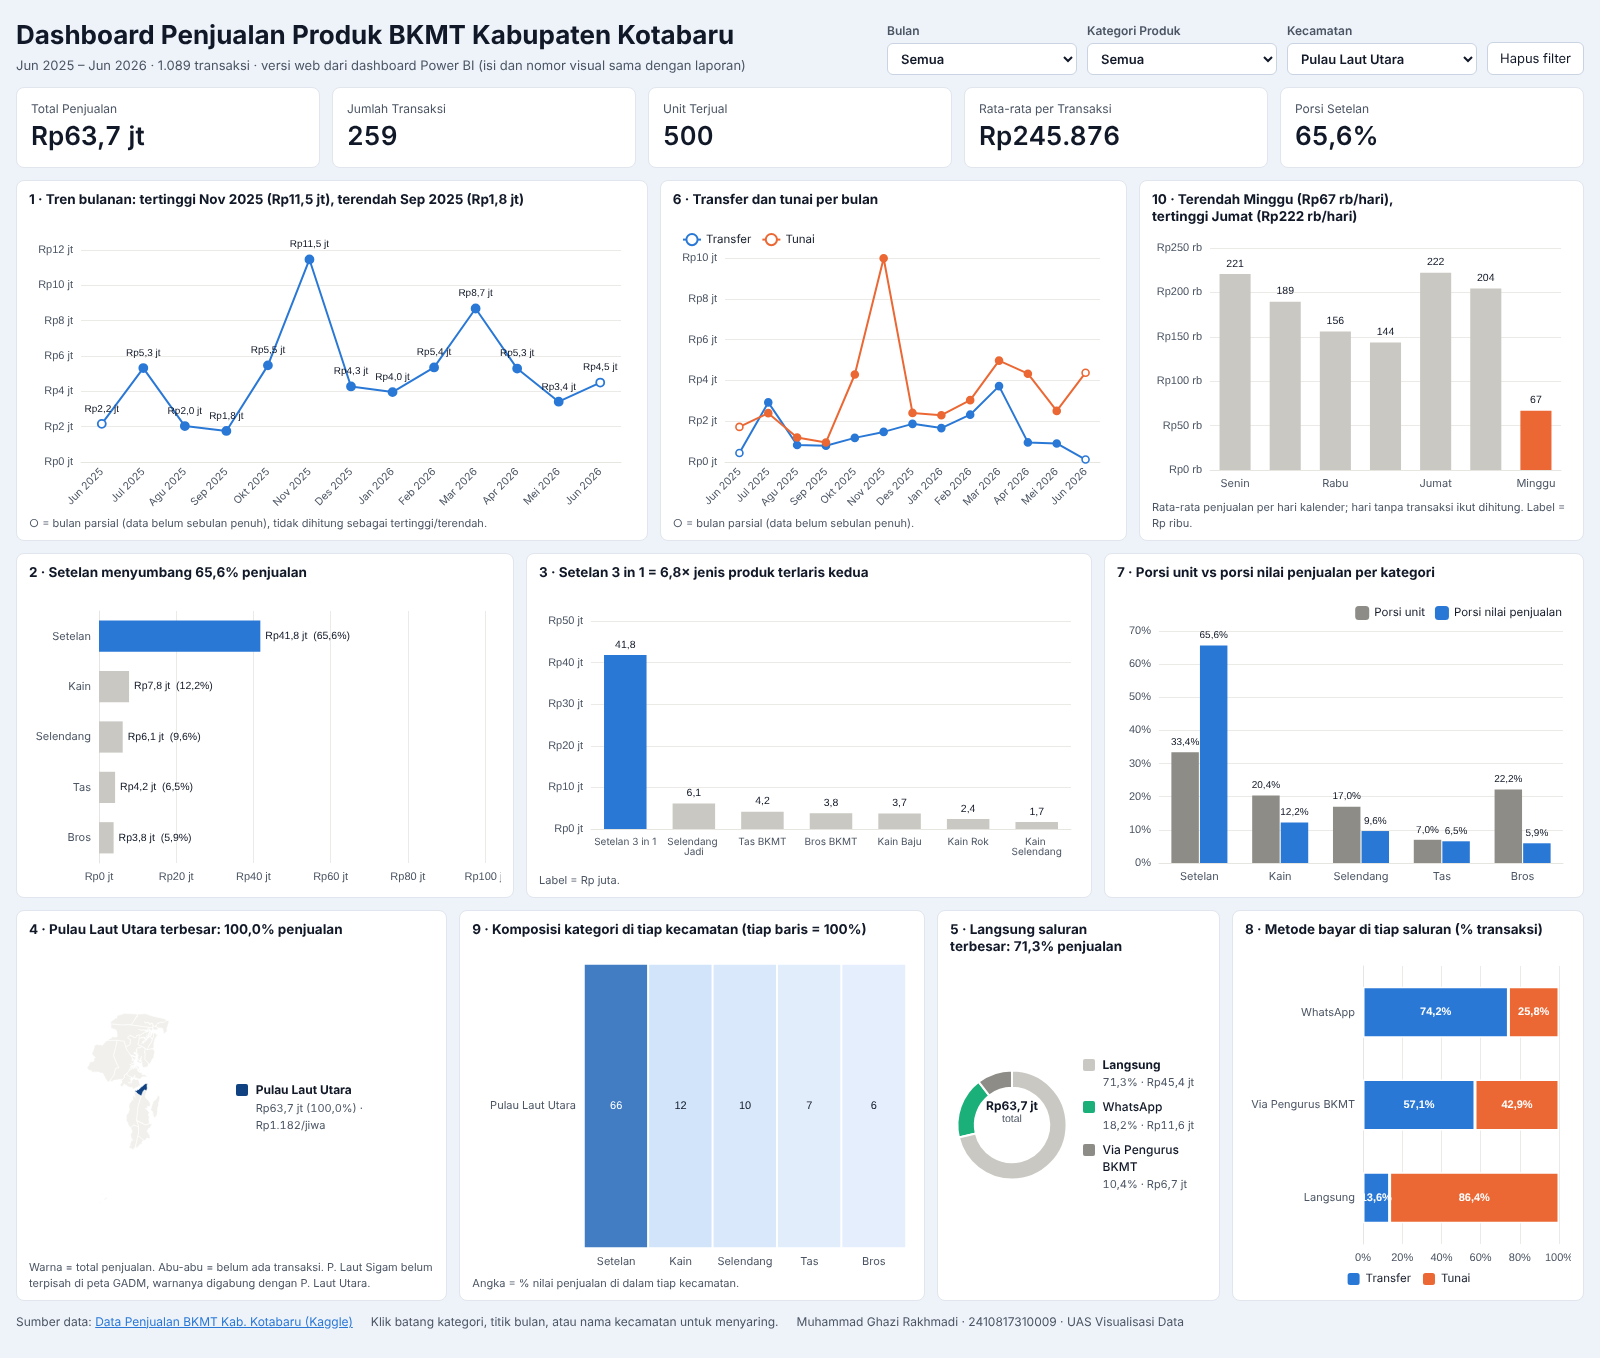

What the dashboard file says about the page in this screenshot:
{"tool":"powerbi","page":{"name":"Halaman 1","canvas":[1920,1080],"ordinal":0},"visuals":[{"type":"pythonVisual","fields":{"Values":["Penjualan.Kategori Produk","Penjualan.Total Penjualan"]},"box":[54.3,485.7,562.9,280],"z":0},{"type":"pythonVisual","fields":{"Values":["Kalender.Bulan","Kalender.Bulan Parsial","Penjualan.Total Penjualan"]},"box":[54.3,194.3,720,280],"z":1000},{"type":"pythonVisual","fields":{"Values":["Penjualan.Jenis Produk","Penjualan.Total Penjualan"]},"box":[632,486,680,280],"z":2000},{"type":"pythonVisual","fields":{"Values":["Penjualan.Kecamatan","Kecamatan.Nama Peta","Penjualan.Total Penjualan","Penjualan.Penduduk"]},"box":[54.3,778.6,480,280],"z":3000},{"type":"pythonVisual","fields":{"Values":["Penjualan.Saluran Penjualan","Penjualan.Total Penjualan"]},"box":[1124.3,778.6,341.4,280],"z":4000},{"type":"pythonVisual","fields":{"Values":["Kalender.Bulan","Kalender.Bulan Parsial","Penjualan.Metode Pembayaran","Penjualan.Total Penjualan"]},"box":[791.4,194.3,560,280],"z":5000},{"type":"pythonVisual","fields":{"Values":["Penjualan.Kategori Produk","Penjualan.Unit Terjual","Penjualan.Total Penjualan"]},"box":[1324.3,485.7,576,280],"z":6000},{"type":"pythonVisual","fields":{"Values":["Penjualan.Saluran Penjualan","Penjualan.Metode Pembayaran","Penjualan.Jumlah Transaksi"]},"box":[1476,778,424,280],"z":7000},{"type":"pythonVisual","fields":{"Values":["Kecamatan.Kecamatan","Penjualan.Kategori Produk","Penjualan.Total Penjualan"]},"box":[552,778,560,280],"z":8000},{"type":"pythonVisual","fields":{"Values":["Kalender.Hari","Penjualan.Penjualan per Hari"]},"box":[1364,194,536,280],"z":9000},{"type":"cardVisual","fields":{"Data":["Penjualan.Total Penjualan"]},"box":[54.3,85.7,366,90],"z":10000},{"type":"cardVisual","fields":{"Data":["Kalender.Jumlah Transaksi Teks"]},"box":[425.7,85.7,366,90],"z":11000},{"type":"cardVisual","fields":{"Data":["Kalender.Rata-rata per Transaksi"]},"box":[1181.4,85.7,366,90],"z":12000},{"type":"cardVisual","fields":{"Data":["Kalender.Porsi Setelan %"]},"box":[1554.3,85.7,345.7,90],"z":13000},{"type":"cardVisual","fields":{"Data":["Kalender.Unit Terjual Teks"]},"box":[804.3,85.7,366,90],"z":14000},{"type":"textbox","box":[54.3,20,1017.1,60],"z":15000},{"type":"slicer","fields":{"Values":["Kecamatan.Kecamatan"]},"box":[1647.1,20,252.9,60],"z":16000},{"type":"slicer","fields":{"Values":["Penjualan.Kategori Produk"]},"box":[1402.9,20,244.3,60],"z":17000},{"type":"slicer","fields":{"Values":["Kalender.Bulan"]},"box":[1158.6,20,244.3,60],"z":17001}]}

Visuals, with their boxes on the page's 1920x1080 design canvas (x1, y1, x2, y2). These are canvas units, not pixel positions in the 1600x1358 screenshot, which may show the page scaled, cropped or inside an application window:
pythonVisual - Penjualan.Kategori Produk x Penjualan.Total Penjualan: bbox(54, 486, 617, 766)
pythonVisual - Kalender.Bulan x Kalender.Bulan Parsial: bbox(54, 194, 774, 474)
pythonVisual - Penjualan.Jenis Produk x Penjualan.Total Penjualan: bbox(632, 486, 1312, 766)
pythonVisual - Penjualan.Kecamatan x Kecamatan.Nama Peta: bbox(54, 779, 534, 1059)
pythonVisual - Penjualan.Saluran Penjualan x Penjualan.Total Penjualan: bbox(1124, 779, 1466, 1059)
pythonVisual - Kalender.Bulan x Kalender.Bulan Parsial: bbox(791, 194, 1351, 474)
pythonVisual - Penjualan.Kategori Produk x Penjualan.Unit Terjual: bbox(1324, 486, 1900, 766)
pythonVisual - Penjualan.Saluran Penjualan x Penjualan.Metode Pembayaran: bbox(1476, 778, 1900, 1058)
pythonVisual - Kecamatan.Kecamatan x Penjualan.Kategori Produk: bbox(552, 778, 1112, 1058)
pythonVisual - Kalender.Hari x Penjualan.Penjualan per Hari: bbox(1364, 194, 1900, 474)
cardVisual - Penjualan.Total Penjualan: bbox(54, 86, 420, 176)
cardVisual - Kalender.Jumlah Transaksi Teks: bbox(426, 86, 792, 176)
cardVisual - Kalender.Rata-rata per Transaksi: bbox(1181, 86, 1547, 176)
cardVisual - Kalender.Porsi Setelan %: bbox(1554, 86, 1900, 176)
cardVisual - Kalender.Unit Terjual Teks: bbox(804, 86, 1170, 176)
textbox: bbox(54, 20, 1071, 80)
slicer - Kecamatan.Kecamatan: bbox(1647, 20, 1900, 80)
slicer - Penjualan.Kategori Produk: bbox(1403, 20, 1647, 80)
slicer - Kalender.Bulan: bbox(1159, 20, 1403, 80)
